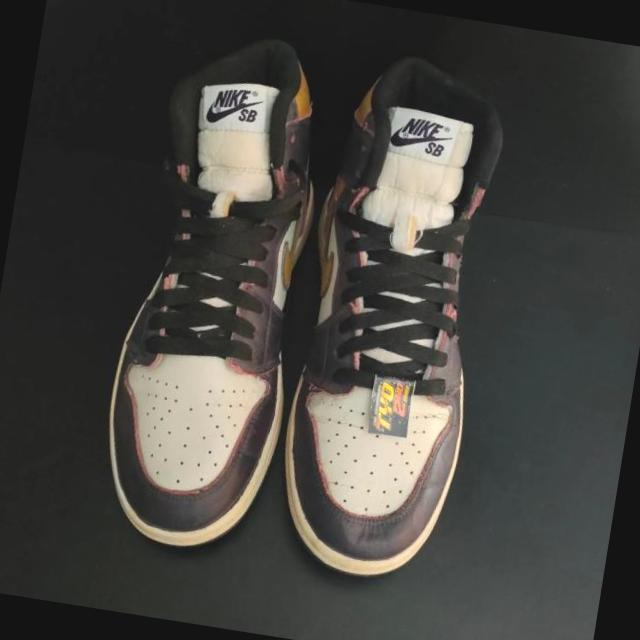nike_fake_jordan: (266, 54, 528, 588), (90, 25, 347, 562)
